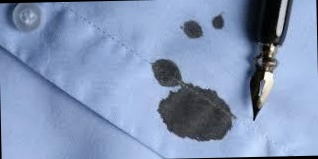ink: (159, 86, 234, 142), (153, 59, 181, 86), (182, 21, 202, 38), (213, 16, 225, 30)
